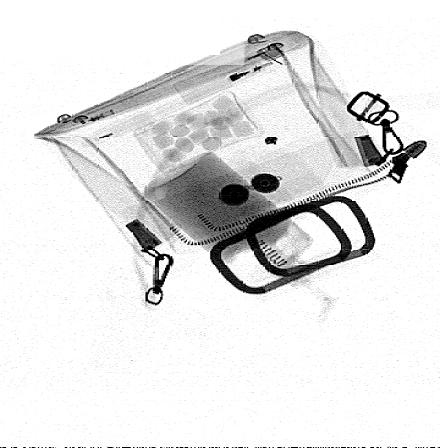Lighter: (173, 42, 291, 105)
